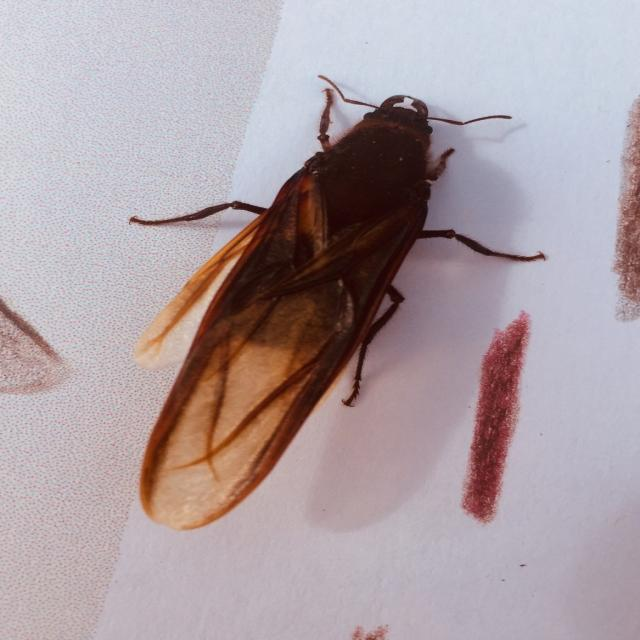Alive-Female-Alate: (129, 77, 542, 529)
